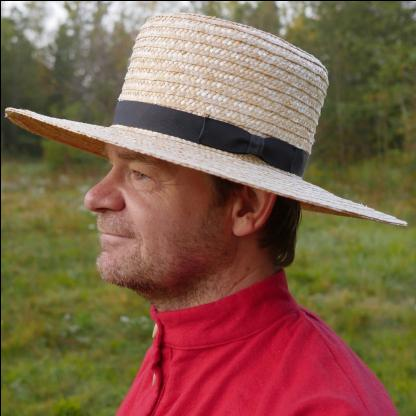hat: (2, 8, 412, 230)
